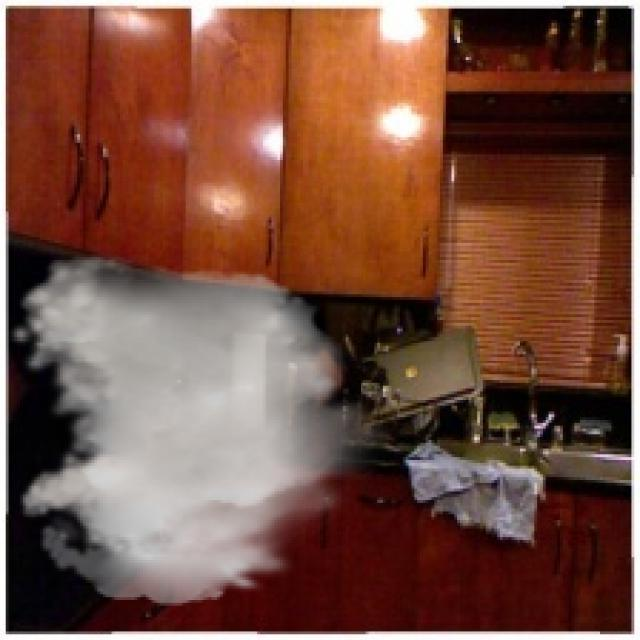Smoke: (6, 254, 394, 606)
